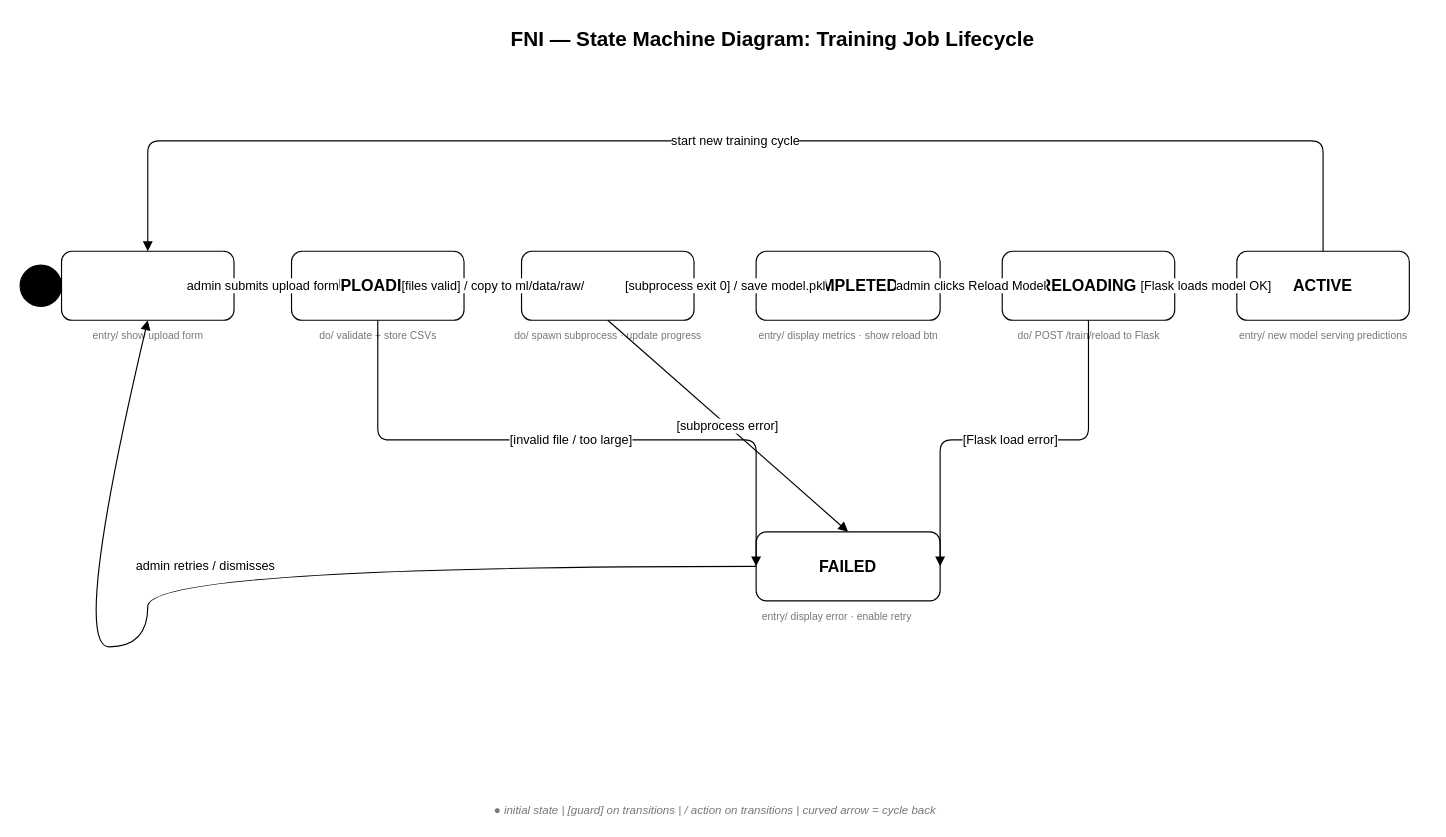
Some shapes in this 1446 by 837 pixel diagram are drawn without their labels. The centre of each missing label's shape, as x and y in pixels:
"IDLE" goes at point 147,285.
"TRAINING" goes at point 607,285.
